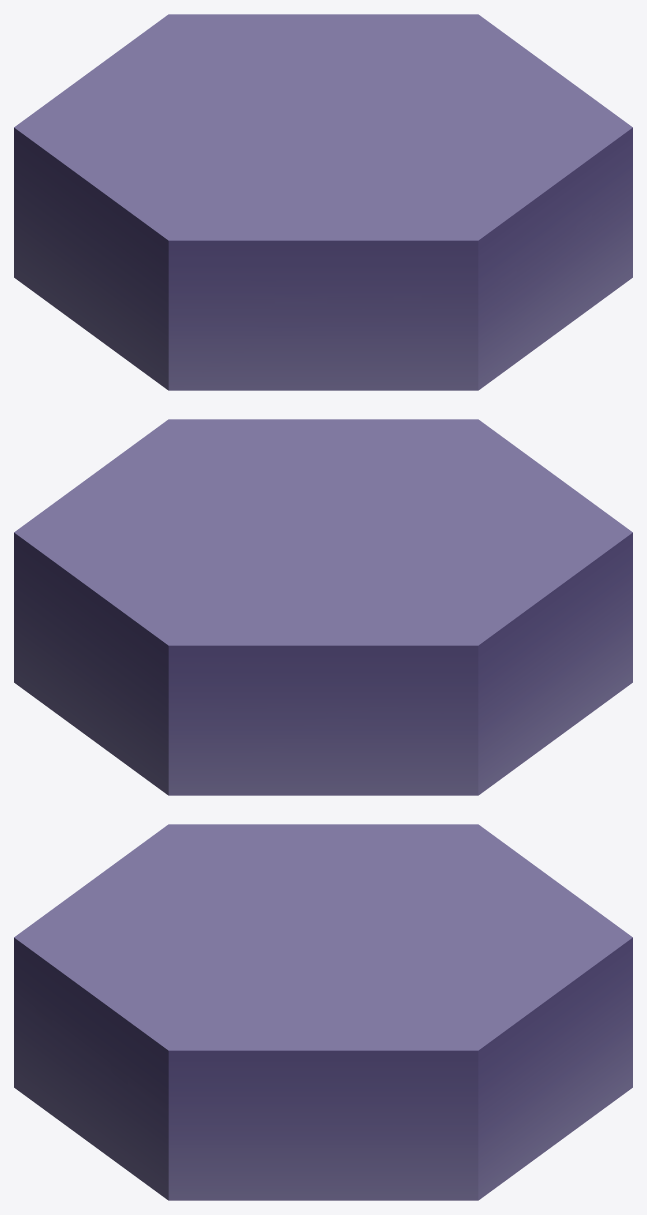
File: Grade_5.fbx
The picture shows the model from 3 angles, top to bottom: view 1: azimuth 30°, elevation 25°; view 2: azimuth 150°, elevation 25°; view 3: azimuth 270°, elevation 25°; orthographic projection.
Visible parts, largest first — view 1: Grade_2; view 2: Grade_2; view 3: Grade_2.
Boxes of the visible parts, x1,y1,x2,y2 form: Grade_2: (14,14,632,390); Grade_2: (14,419,632,795); Grade_2: (14,824,632,1200).
Size of the model in its own units: 1.73 by 2 by 0.5351.
